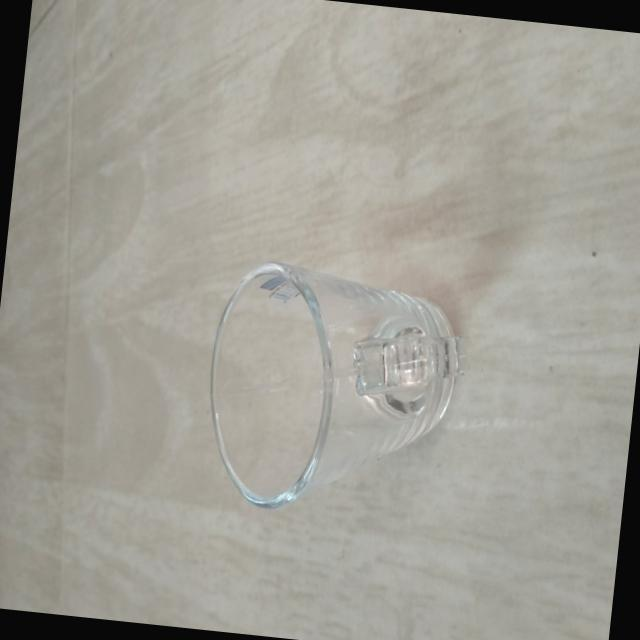glass-VX4N: (197, 255, 472, 530)
